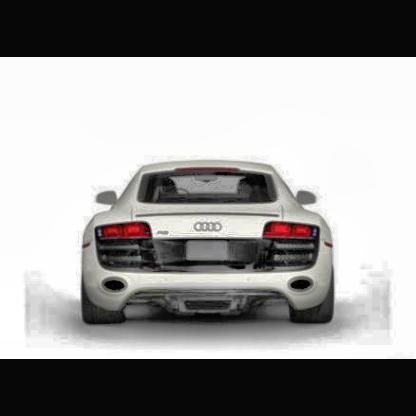Audi R8 Coupe 2012: (82, 158, 339, 334)
